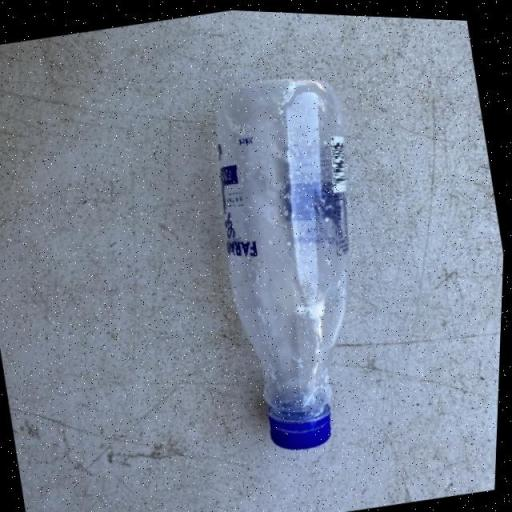plastic: (189, 60, 406, 458)
